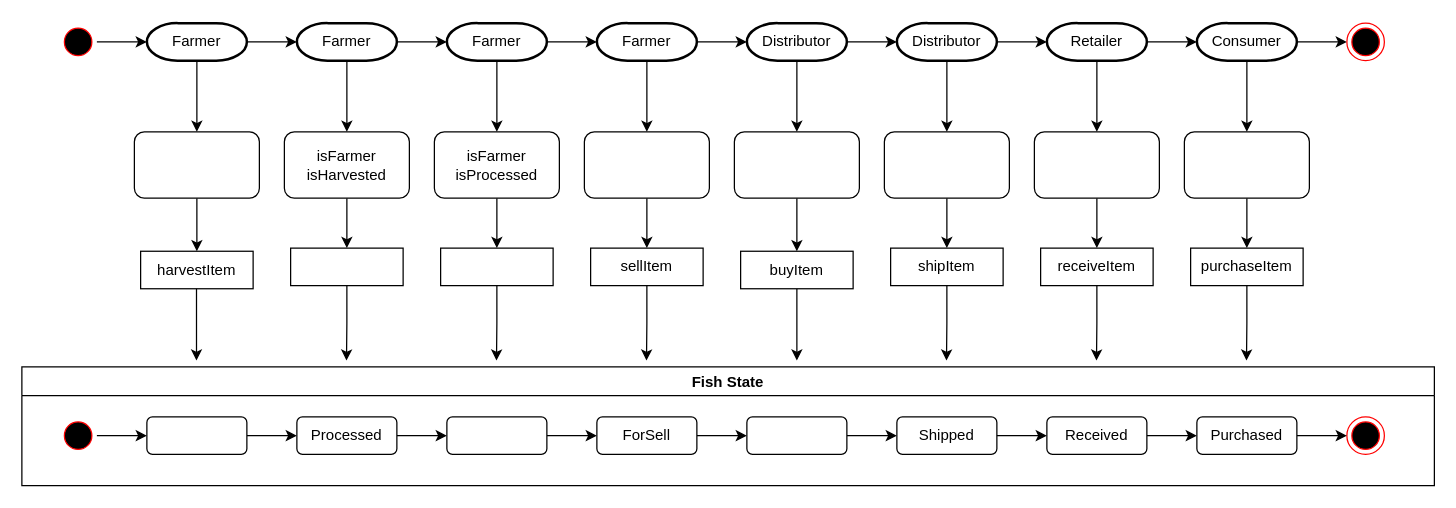
This 1456x508 diagram has some shape labels left out. The shapes that lost their labels are listed below. From the top down, each one's centre as x and y in pixels, then its label:
[196,164]: isFarmer
[646,164]: isFarmer isPacked
[796,164]: isDistributor isForSell isPaidEnough
[946,164]: isDistributor isSold
[1096,164]: isRetailer isShipped
[1246,164]: isConsumer isReceived
[346,266]: processItem
[496,266]: packItem
[196,435]: Harvested
[496,435]: Packed
[796,435]: Sold
